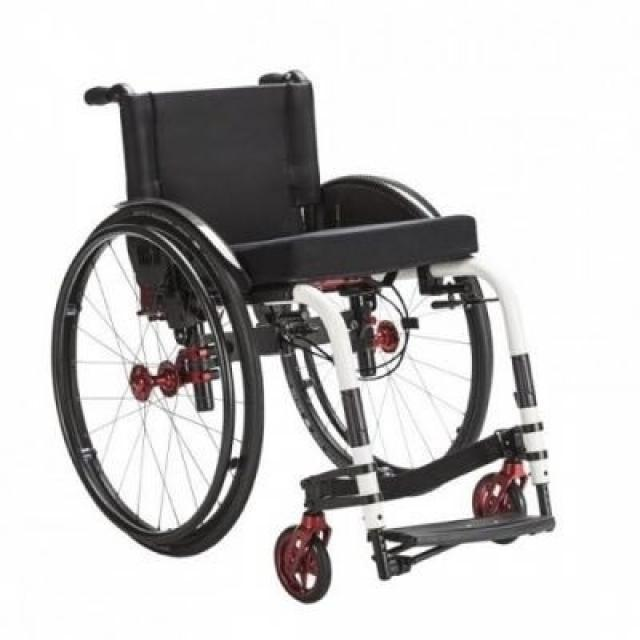wheelchair: (31, 64, 568, 607)
